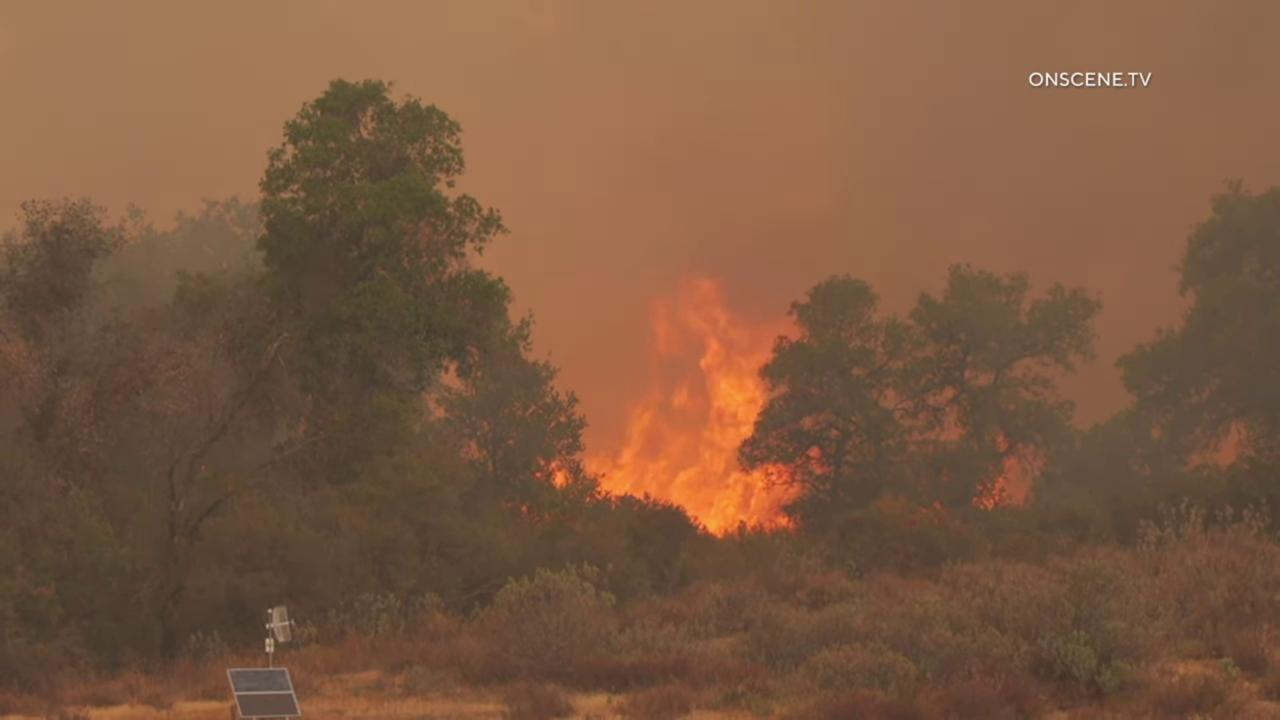fire: (531, 264, 830, 543), (971, 434, 1043, 517)
smoke: (0, 0, 1280, 546)
